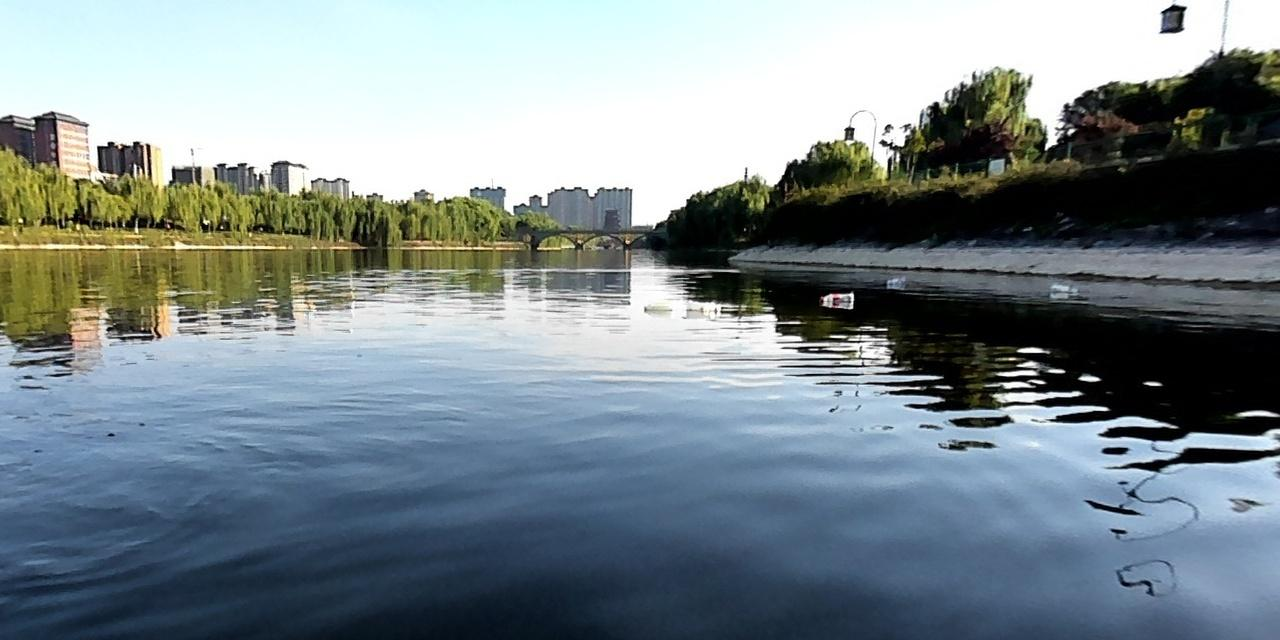bottle: (683, 294, 724, 316), (817, 287, 857, 304), (638, 298, 676, 314), (1046, 279, 1083, 295), (880, 275, 906, 287)
